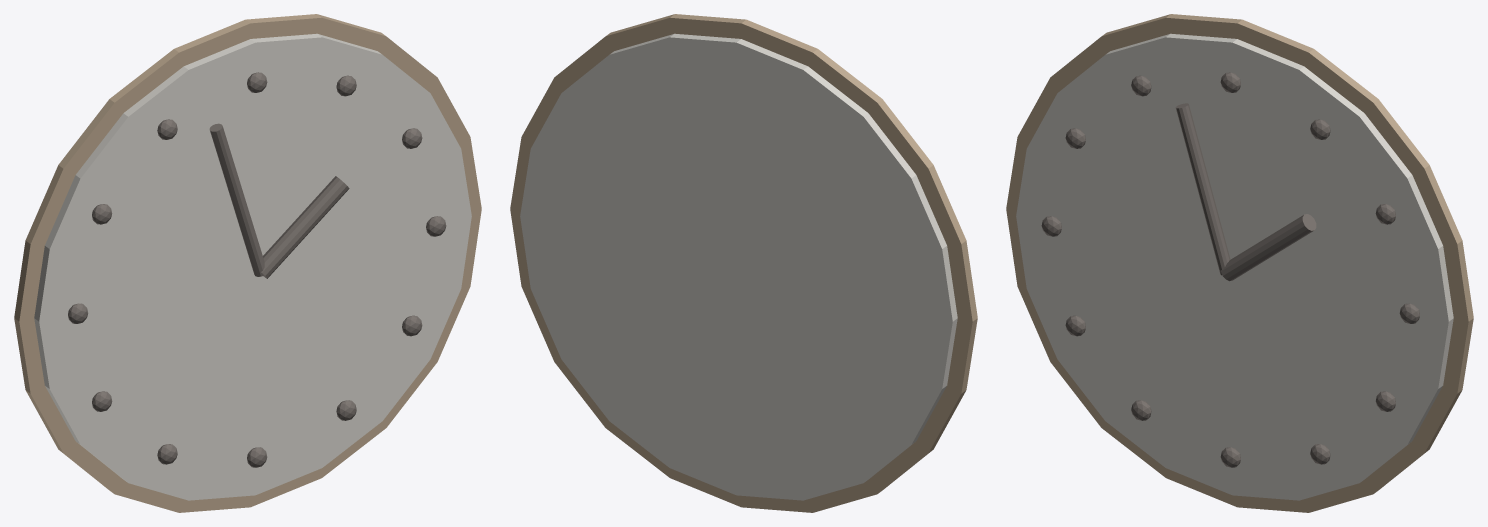
Rendered from wall_clock.glb.
The picture shows the model from 3 angles, left to right: view 1: azimuth 30°, elevation 25°; view 2: azimuth 150°, elevation 25°; view 3: azimuth 330°, elevation 25°; orthographic projection.
Visible parts, largest first — view 1: round_face, rim, hour_hand, minute_hand; view 2: round_face, rim; view 3: round_face, rim, minute_hand, hour_hand.
Part boxes in pixels (x1,y1,x2,y2): round_face: (34,33,471,500); rim: (14,14,481,512); hour_hand: (261,176,349,278); minute_hand: (209,123,264,276); round_face: (520,33,957,500); rim: (510,14,977,512); round_face: (1016,33,1453,500); rim: (1006,14,1473,512); minute_hand: (1175,103,1230,275); hour_hand: (1220,214,1316,281).
Bounding box in the file's own units: 0.62 × 0.62 × 0.0575.
